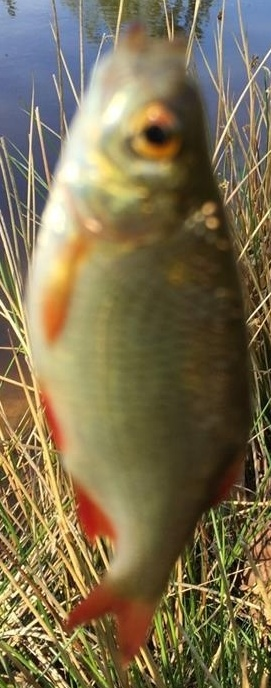Scardinius erythrophthalmus: (20, 20, 251, 668)
